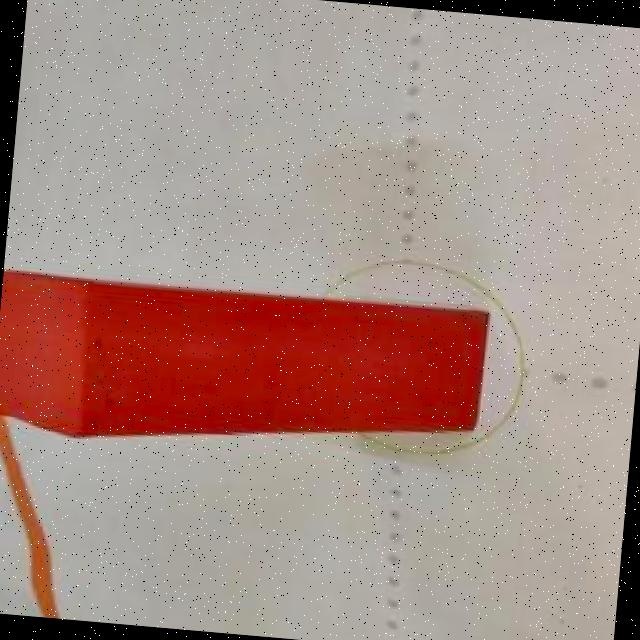redbox: (0, 261, 486, 472)
